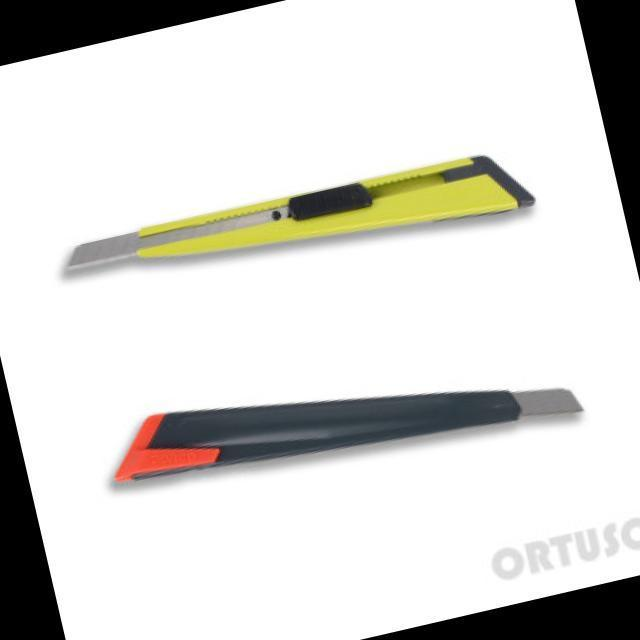cutter: (78, 291, 594, 537), (40, 133, 552, 325)
